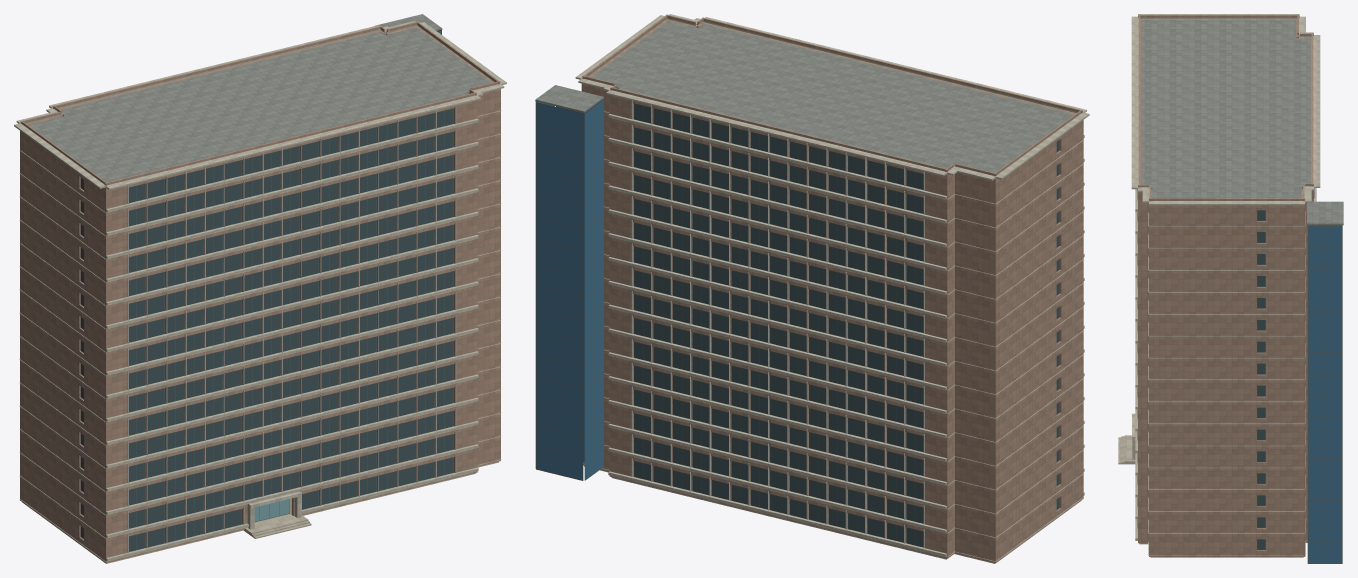
The picture shows the model from 3 angles, left to right: view 1: azimuth 30°, elevation 25°; view 2: azimuth 150°, elevation 25°; view 3: azimuth 270°, elevation 25°; orthographic projection. The views are drawn at different scales.
Visible parts, largest first — view 1: bugak__pinkstone, bugak__recessglass, bugak__pale, bugak__roof, bugak__finefin, bugak__frame, bugak__stone; view 2: bugak__pinkstone, bugak__recessglass, bugak__pale, bugak__roof, bugak__blueglass, bugak__frame, bugak__finefin, bugak__stone; view 3: bugak__pinkstone, bugak__roof, bugak__blueglass, bugak__pale, bugak__frame, bugak__recessglass.
Boxes of the visible parts, left/top/right/bottom form: bugak__pinkstone: left=20, top=21, right=500, bottom=562; bugak__recessglass: left=81, top=108, right=453, bottom=551; bugak__pale: left=14, top=21, right=506, bottom=561; bugak__roof: left=28, top=14, right=491, bottom=182; bugak__finefin: left=127, top=105, right=456, bottom=552; bugak__frame: left=80, top=30, right=453, bottom=549; bugak__stone: left=22, top=461, right=498, bottom=563; bugak__pinkstone: left=581, top=14, right=1083, bottom=562; bugak__recessglass: left=634, top=103, right=1059, bottom=547; bugak__pale: left=575, top=14, right=1089, bottom=561; bugak__roof: left=535, top=20, right=1074, bottom=172; bugak__blueglass: left=536, top=99, right=603, bottom=480; bugak__frame: left=535, top=100, right=1059, bottom=546; bugak__finefin: left=631, top=100, right=924, bottom=548; bugak__stone: left=584, top=465, right=1081, bottom=563; bugak__pinkstone: left=1138, top=14, right=1313, bottom=556; bugak__roof: left=1141, top=20, right=1343, bottom=225; bugak__blueglass: left=1307, top=225, right=1342, bottom=562; bugak__pale: left=1131, top=14, right=1320, bottom=555; bugak__frame: left=1257, top=210, right=1342, bottom=563; bugak__recessglass: left=1257, top=210, right=1265, bottom=549.
Size of the model in its own units: 68.04 by 57.41 by 32.61.
Materials: 9 (4 with a texture image).
